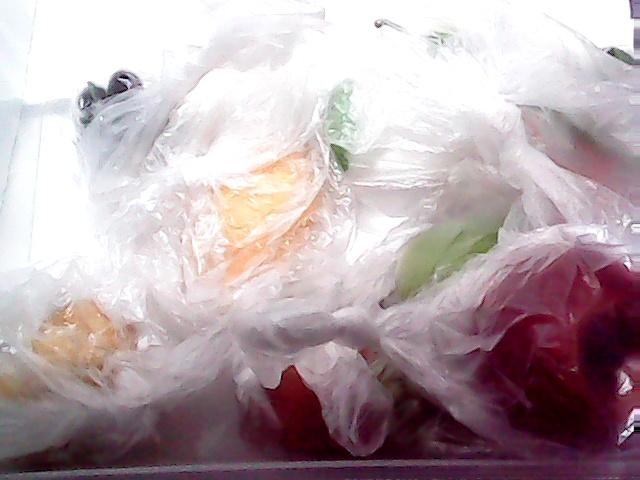apple: (483, 236, 640, 435)
carrot: (515, 93, 640, 241)
grape: (86, 72, 152, 126)
lemon: (184, 121, 328, 312)
peach: (237, 306, 399, 458)
potato: (0, 292, 148, 440)
